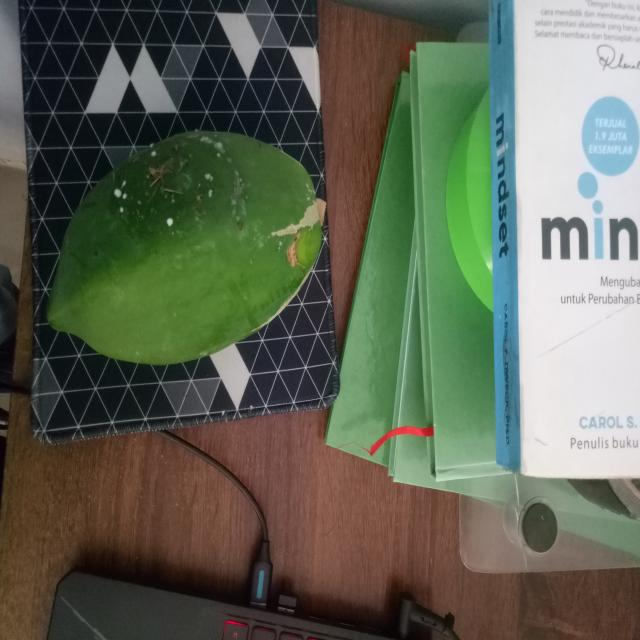Pepaya unrippen: (40, 127, 342, 366)
